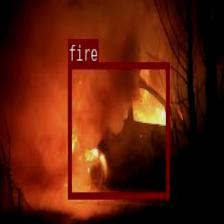fire: (68, 62, 169, 198)
